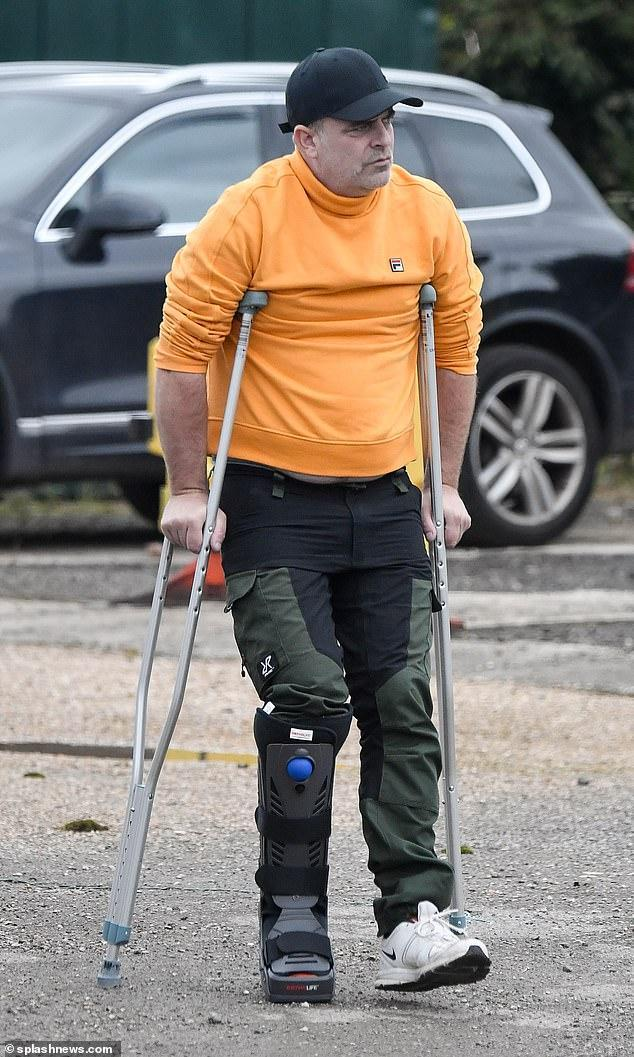crutches: (75, 33, 503, 1000)
